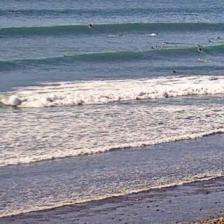surfer: (163, 40, 172, 44), (173, 70, 176, 73), (208, 40, 212, 42), (151, 47, 155, 49), (199, 48, 201, 51), (217, 36, 220, 38), (90, 25, 92, 27), (156, 46, 158, 48), (157, 33, 159, 35)
